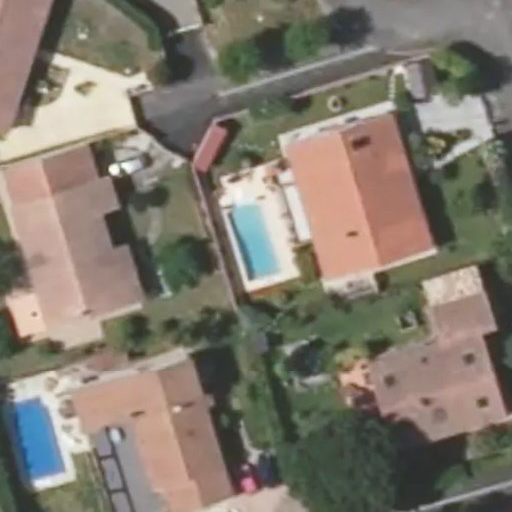pool: (227, 207, 282, 271)
